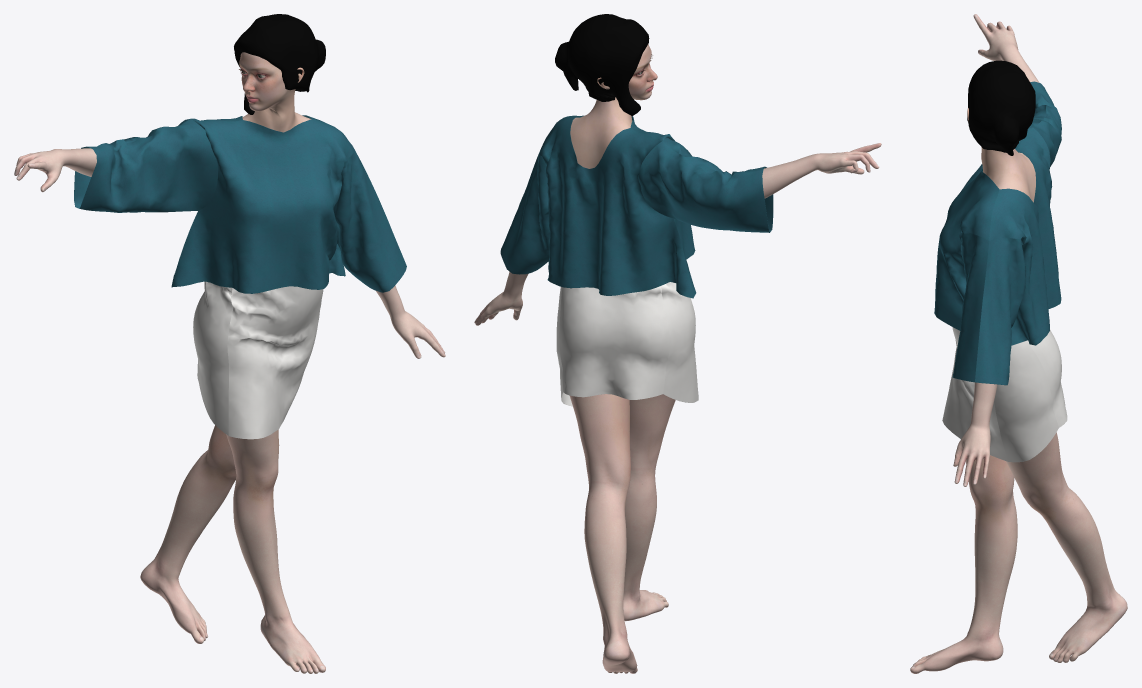
Rendered from Custom_View_3__Dynamic.obj.
3 views of the same model, side by side, from view 1: azimuth 30°, elevation 25°; view 2: azimuth 150°, elevation 25°; view 3: azimuth 270°, elevation 25° (orthographic). The views are drawn at different scales.
Size of the model in its own units: 1226 by 1775 by 569.
